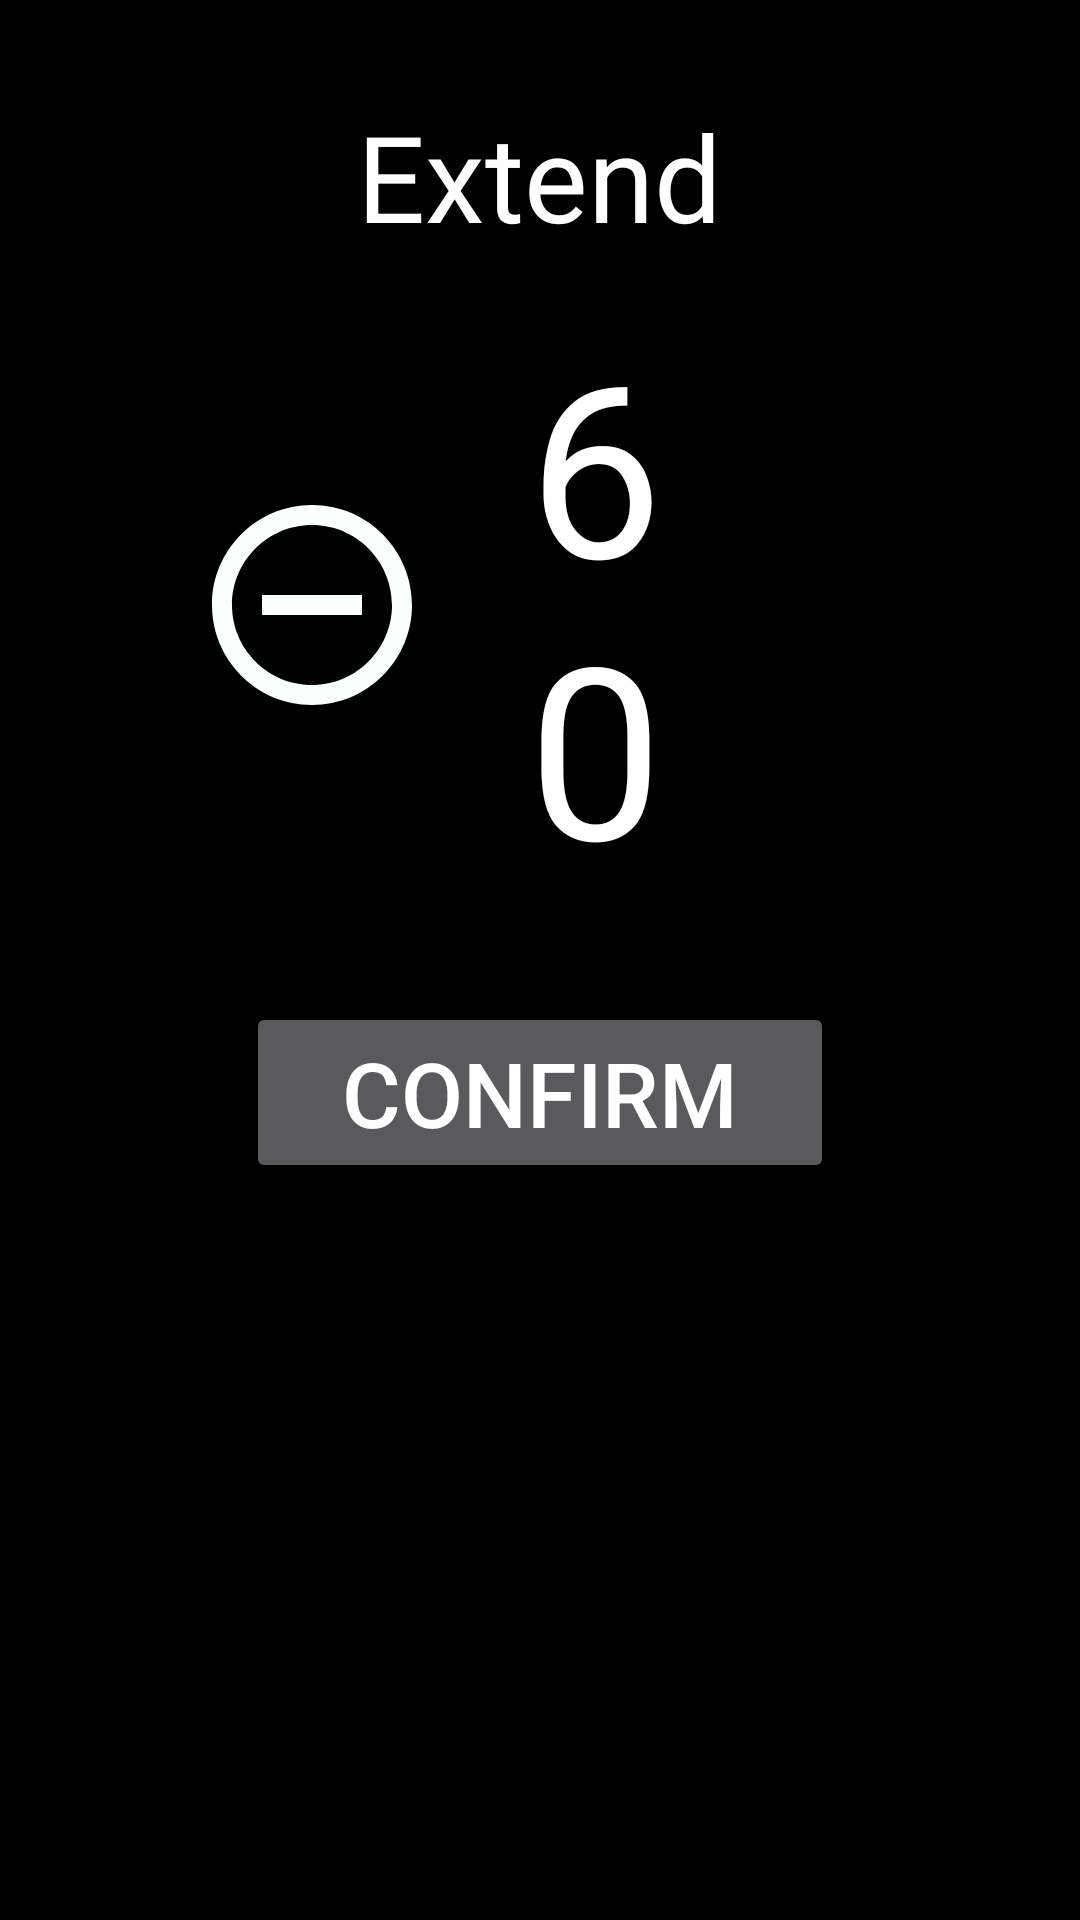

Icons on this 1080×1920 Android screen, each with the point to tap as (x=x, y=y):
remove circle: (x=311, y=605)
